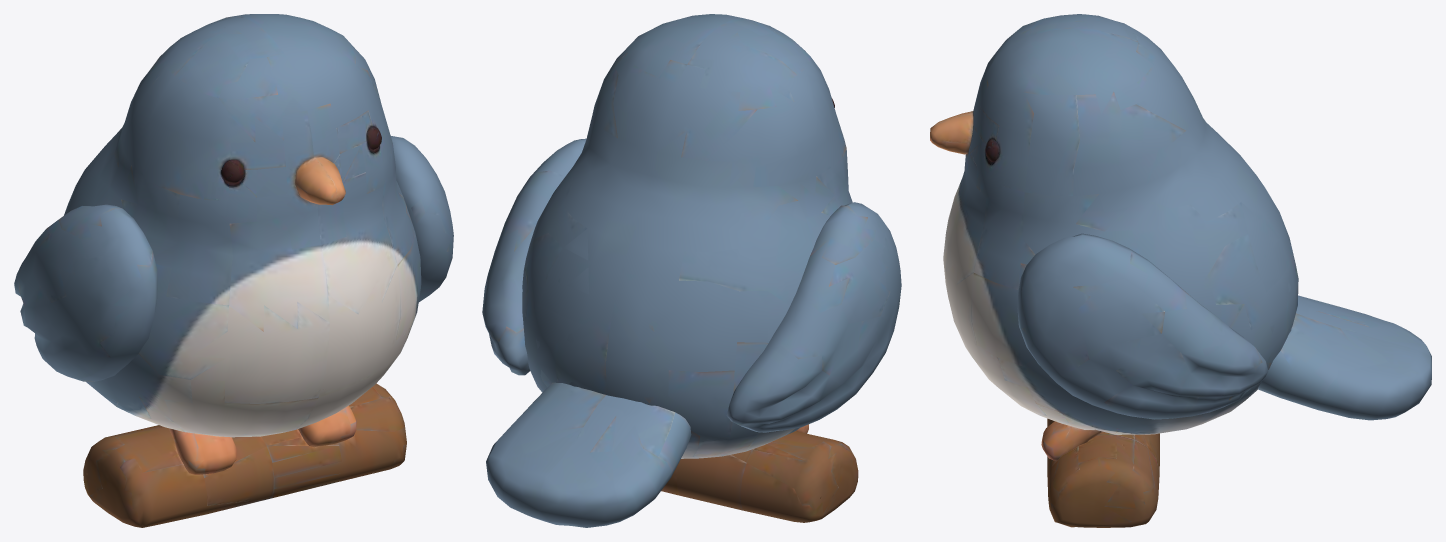
The model's file is bird.glb.
3 views of the same model, side by side, from view 1: azimuth 30°, elevation 25°; view 2: azimuth 150°, elevation 25°; view 3: azimuth 270°, elevation 25° (orthographic). The views are drawn at different scales.
Size of the model in its own units: 0.8234 by 0.9655 by 1.
1 material, 1 textured.
